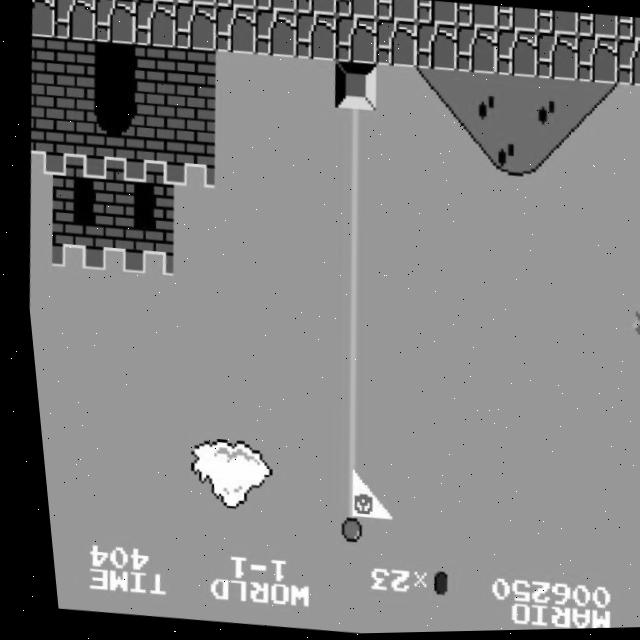1- brick_block: (48, 37, 98, 88)
11- little_mario: (621, 313, 640, 366)
17- undestructible_block: (530, 33, 580, 84), (450, 26, 500, 77), (370, 19, 420, 70), (290, 12, 340, 63), (210, 5, 260, 56), (169, 2, 219, 53), (490, 30, 540, 80), (410, 23, 460, 73), (571, 37, 620, 88), (330, 16, 379, 67), (250, 9, 299, 60), (130, 0, 179, 49), (89, 0, 139, 45), (49, 0, 98, 42), (610, 40, 640, 90), (574, 14, 619, 42), (534, 11, 579, 39), (494, 7, 539, 35), (453, 4, 498, 32), (414, 1, 459, 28), (28, 0, 58, 38), (373, 0, 418, 24), (333, 0, 378, 21), (293, 0, 338, 18), (613, 18, 640, 45), (253, 0, 297, 14), (214, 0, 258, 10), (174, 0, 218, 7), (134, 0, 177, 4)
7- goal_pole: (315, 517, 365, 568), (322, 289, 372, 340), (324, 198, 374, 249), (327, 107, 377, 158), (320, 335, 370, 385), (317, 472, 366, 523), (318, 426, 367, 476), (320, 381, 369, 431), (323, 244, 372, 294), (327, 153, 375, 203)
9- hard_block: (329, 62, 378, 112)
